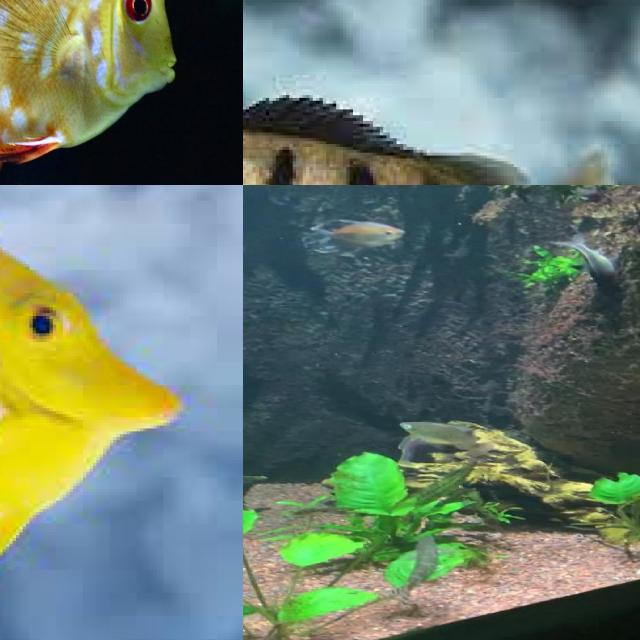fish: (0, 185, 200, 621), (0, 0, 243, 185), (243, 83, 640, 185), (299, 220, 412, 262)
